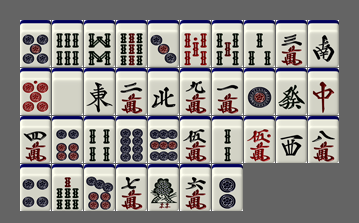0m: (244, 116, 275, 163)
0p: (20, 68, 51, 115)
0s: (180, 20, 211, 67)
1m: (212, 68, 243, 115)
1p: (244, 68, 275, 115)
1s: (148, 164, 179, 211)
1z: (84, 68, 115, 115)
2m: (116, 68, 147, 115)
2p: (212, 164, 243, 211)
2s: (212, 116, 243, 163)
2z: (308, 20, 339, 67)
3m: (276, 20, 307, 67)
3p: (148, 20, 179, 67)
3s: (244, 20, 275, 67)
3z: (276, 116, 307, 163)
4m: (20, 116, 51, 163)
4p: (20, 164, 51, 211)
4s: (84, 116, 115, 163)
4z: (148, 68, 179, 115)
5m: (180, 116, 211, 163)
5p: (20, 20, 51, 67)
5s: (212, 20, 243, 67)
5z: (52, 68, 83, 115)
6m: (180, 164, 211, 211)
6p: (52, 116, 83, 163)
6s: (52, 20, 83, 67)
6z: (276, 68, 307, 115)
7m: (116, 164, 147, 211)
7p: (84, 164, 115, 211)
7s: (52, 164, 83, 211)
7z: (308, 68, 339, 115)
8m: (308, 116, 339, 163)
8p: (116, 116, 147, 163)
8s: (84, 20, 115, 67)
9m: (180, 68, 211, 115)
9p: (148, 116, 179, 163)
9s: (116, 20, 147, 67)
